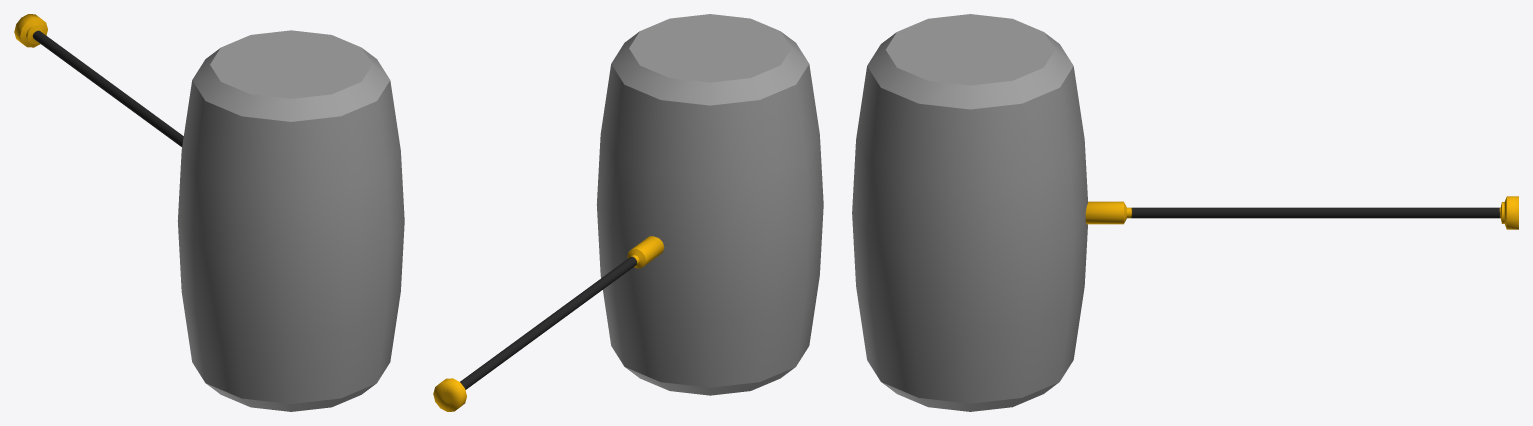
File: Earth_Weapon 1.fbx
3 views of the same model, side by side, from view 1: azimuth 30°, elevation 25°; view 2: azimuth 150°, elevation 25°; view 3: azimuth 270°, elevation 25° (orthographic). The views are drawn at different scales.
Parts seen in each view (by area): view 1: Cylinder002; view 2: Cylinder002; view 3: Cylinder002.
Boxes of the visible parts, x1,y1,x2,y2 form: Cylinder002: (14, 14, 404, 411); Cylinder002: (433, 14, 823, 411); Cylinder002: (852, 14, 1518, 411).
Size of the model in its own units: 65.72 by 100 by 185.
1 material, 1 textured.
